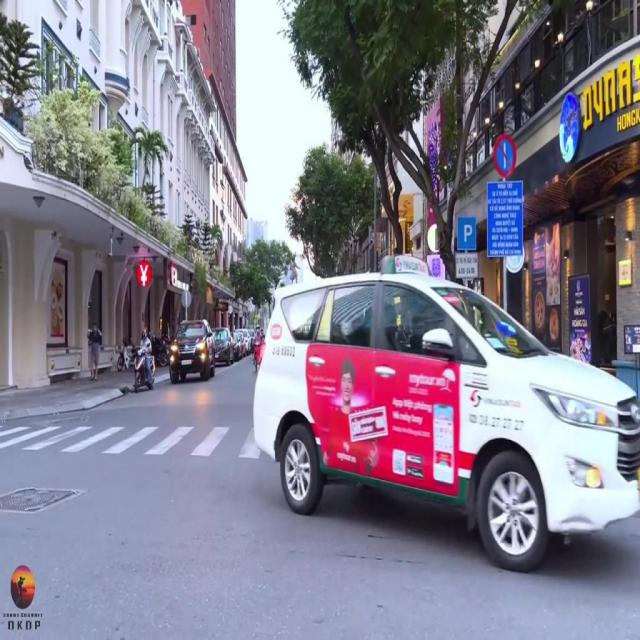cam_do_xe: (493, 134, 517, 178)
khac: (457, 217, 476, 250), (456, 254, 478, 278)
